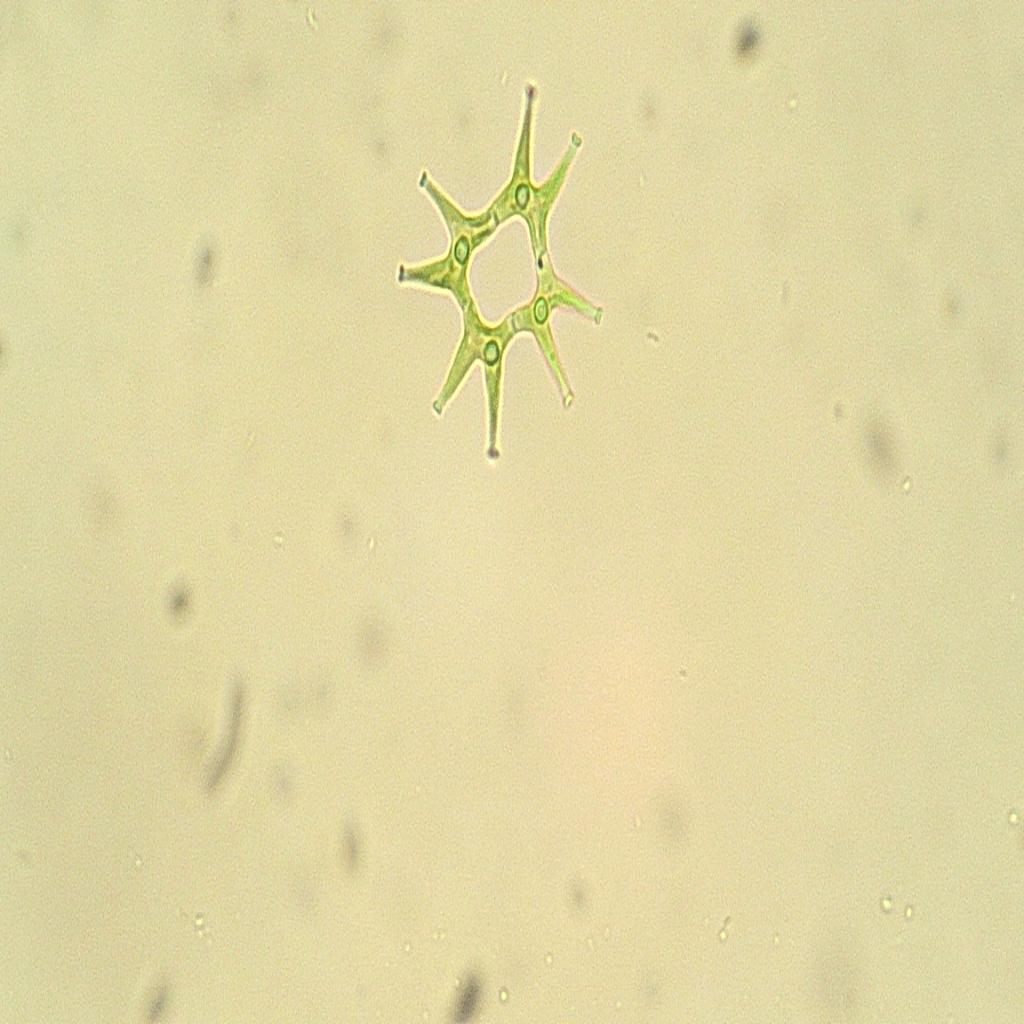Pediastrum_10: (382, 61, 621, 472)
